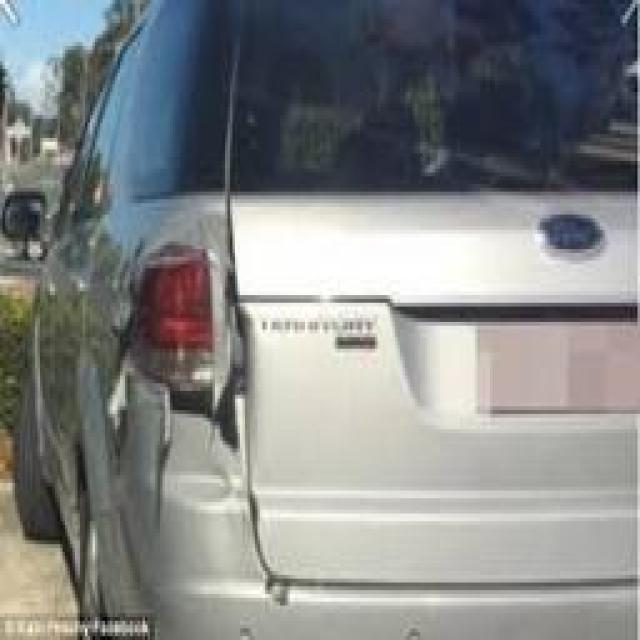Light: (104, 238, 243, 535)
